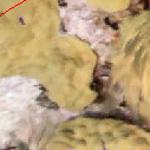alive: (3, 1, 149, 148)
